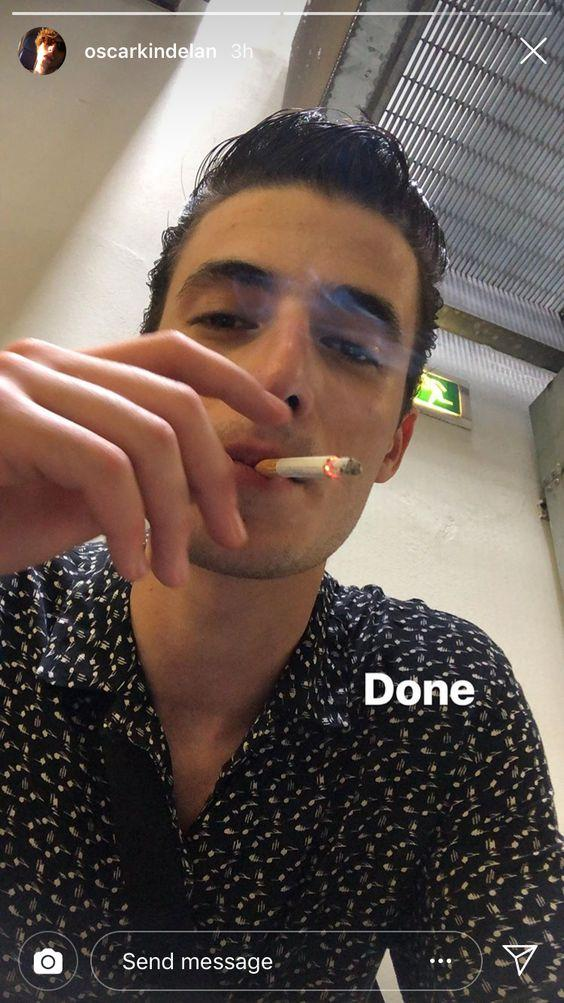cigarette: (252, 455, 363, 480)
